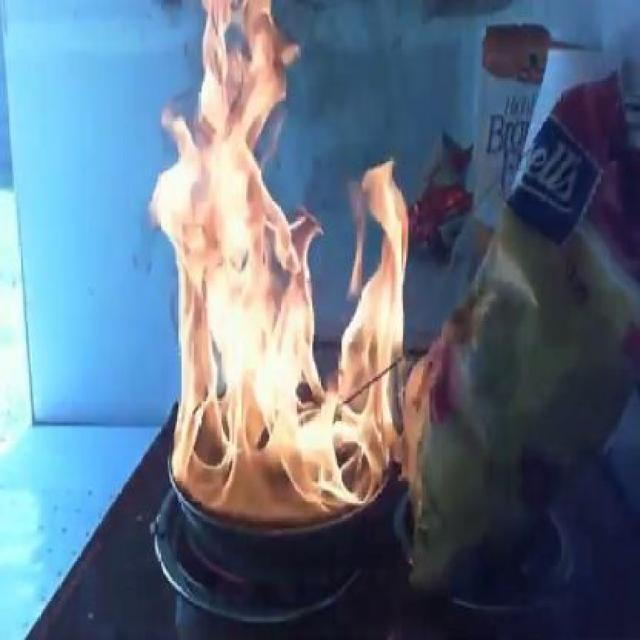fire: (152, 2, 340, 516), (350, 163, 412, 503)
